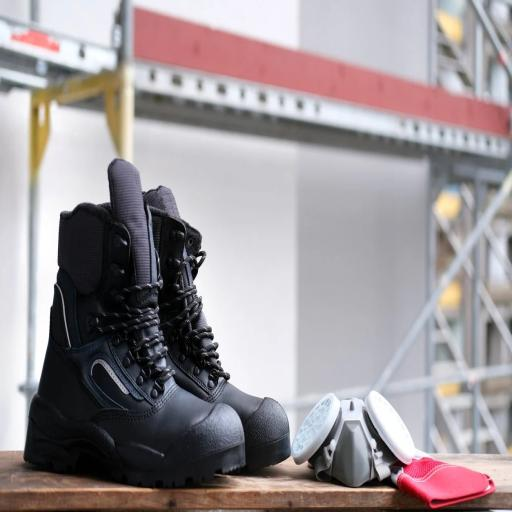safety_boots: (19, 179, 285, 484)
